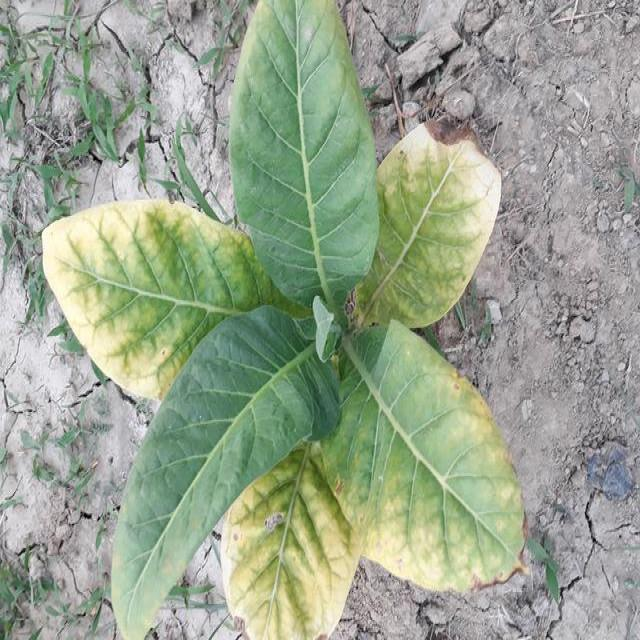crop: (53, 1, 529, 640)
